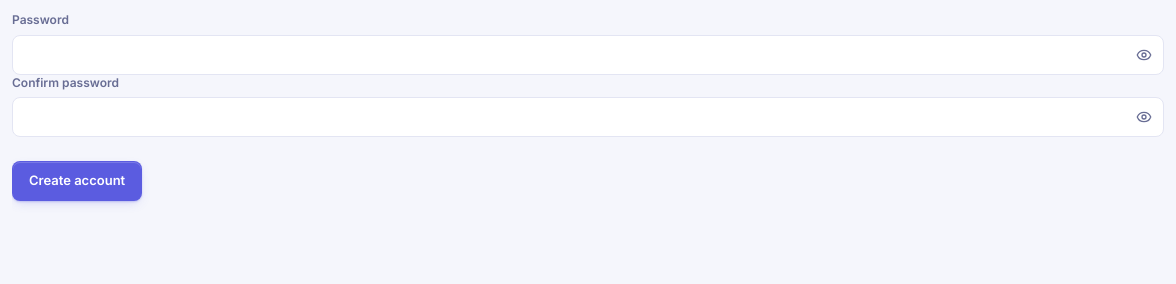
NewPasswordFields › checks the confirmation when leaving the field
Type "Vento-Test-2026!" into the password field labelled "Password" at (588, 54), box [12, 34, 1164, 74]
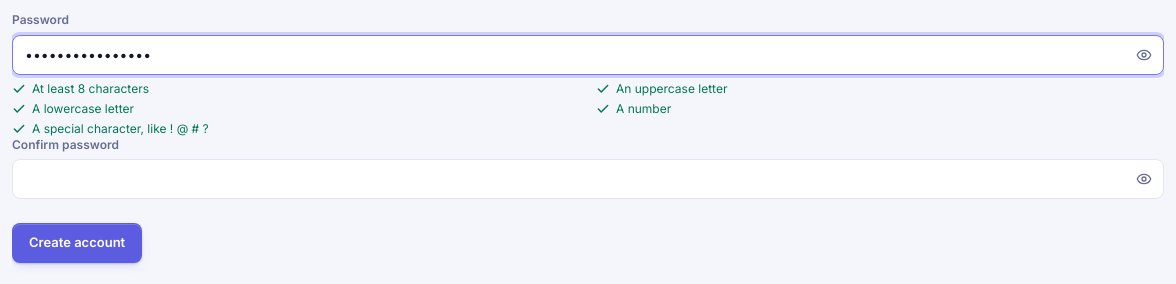
Type "Vento" into the password field labelled "Confirm password" at (588, 179), box [12, 159, 1164, 199]
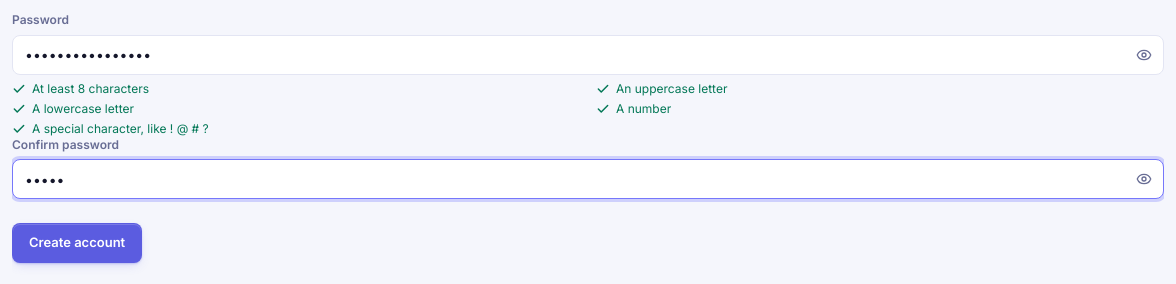
Press Tab
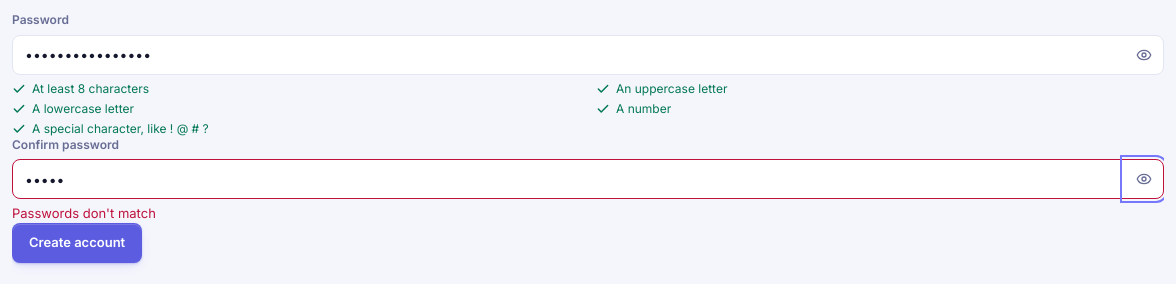
Result: the text "Passwords don't match" is shown at [12, 205, 156, 221]
